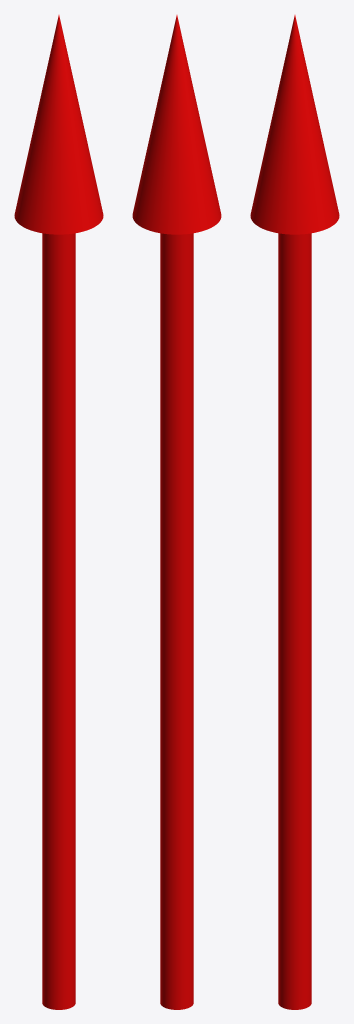
Rendered from vector.obj.
3 views of the same model, side by side, from view 1: azimuth 90°, elevation 25°; view 2: azimuth 150°, elevation 25°; view 3: azimuth 270°, elevation 25° (orthographic).
Parts seen in each view (by area): view 1: Cylinder, Cone; view 2: Cylinder, Cone; view 3: Cylinder, Cone.
Part boxes in pixels (<box>): Cylinder: <box>42,233,75,1009</box>; Cone: <box>14,15,103,234</box>; Cylinder: <box>160,233,193,1009</box>; Cone: <box>132,15,221,234</box>; Cylinder: <box>278,233,311,1009</box>; Cone: <box>250,15,339,234</box>.
Size of the model in its own units: 0.0798 by 0.9799 by 0.08.
1 material, 1 textured.
